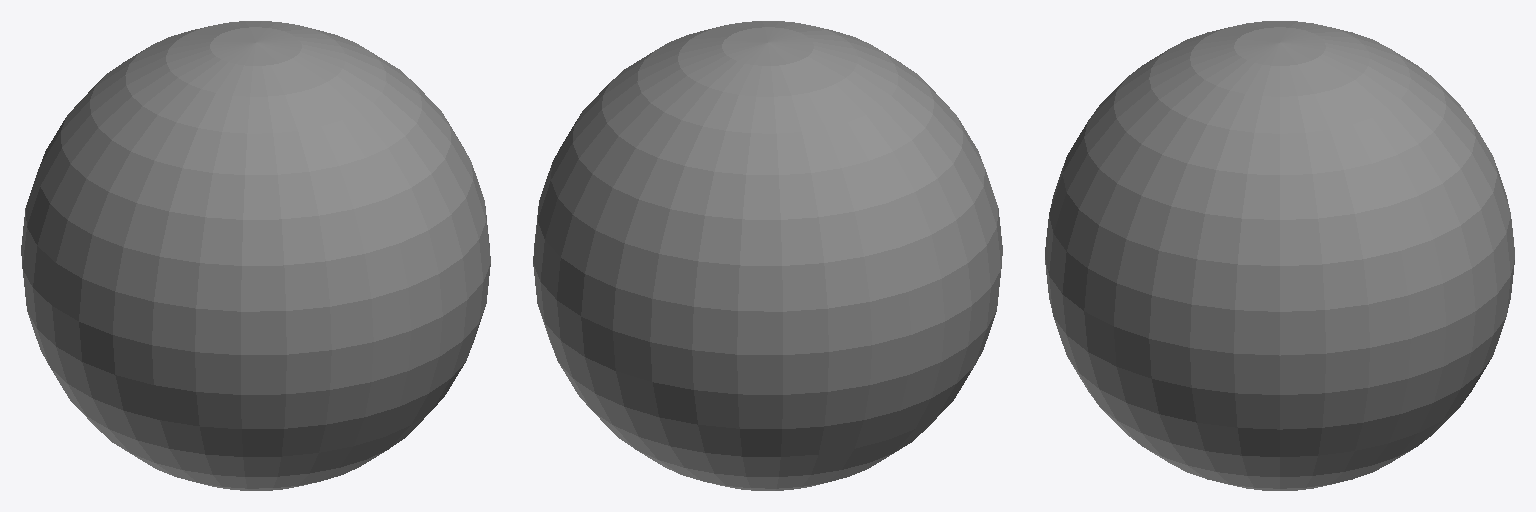
File: ball.obj
The picture shows the model from 3 angles: view 1: azimuth 30°, elevation 25°; view 2: azimuth 150°, elevation 25°; view 3: azimuth 270°, elevation 25°; orthographic projection.
Visible parts, largest first — view 1: Sphere001; view 2: Sphere001; view 3: Sphere001.
Boxes of the visible parts, <box> form: Sphere001: <box>21,21,490,490</box>; Sphere001: <box>533,21,1002,490</box>; Sphere001: <box>1045,21,1514,490</box>.
Size of the model in its own units: 69.77 by 69.77 by 69.77.